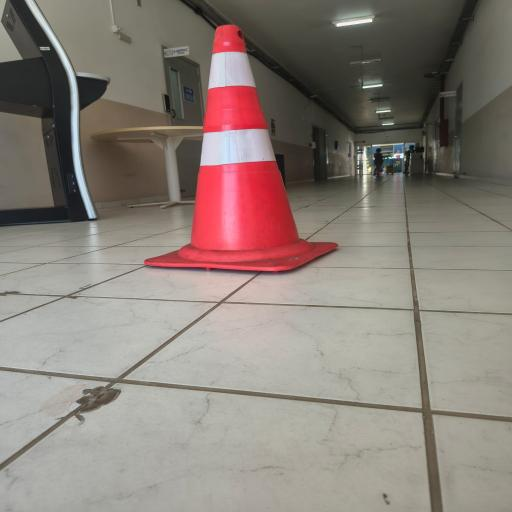cone: (178, 20, 297, 259)
